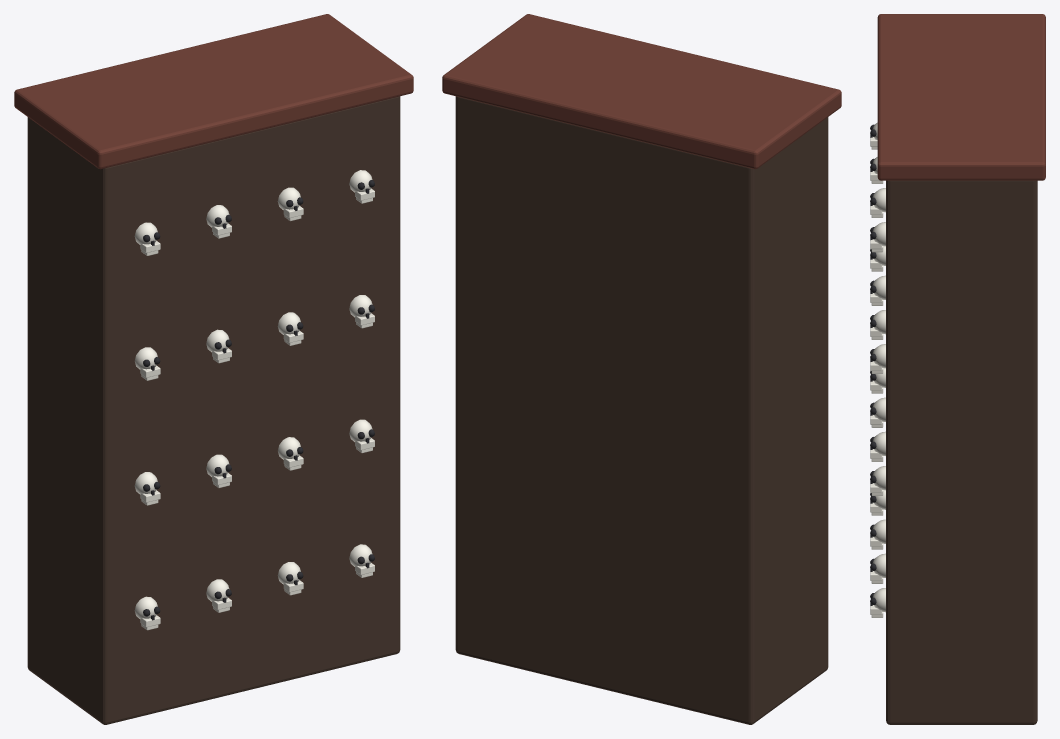
Rendered from cabinet_skull_cabinet.glb.
3 views of the same model, side by side, from view 1: azimuth 30°, elevation 25°; view 2: azimuth 150°, elevation 25°; view 3: azimuth 270°, elevation 25° (orthographic). The views are drawn at different scales.
Visible parts, largest first — view 1: GD_cabinet_skull_cabinet__m0, GD_cabinet_skull_cabinet__m1, GD_cabinet_skull_cabinet__m2, GD_cabinet_skull_cabinet__m3; view 2: GD_cabinet_skull_cabinet__m0, GD_cabinet_skull_cabinet__m1; view 3: GD_cabinet_skull_cabinet__m0, GD_cabinet_skull_cabinet__m1, GD_cabinet_skull_cabinet__m2, GD_cabinet_skull_cabinet__m3.
Boxes of the visible parts, x1,y1,x2,y2 form: GD_cabinet_skull_cabinet__m0: (27, 96, 400, 724); GD_cabinet_skull_cabinet__m1: (14, 14, 413, 169); GD_cabinet_skull_cabinet__m2: (134, 170, 374, 630); GD_cabinet_skull_cabinet__m3: (143, 180, 374, 620); GD_cabinet_skull_cabinet__m0: (455, 96, 828, 724); GD_cabinet_skull_cabinet__m1: (442, 14, 841, 169); GD_cabinet_skull_cabinet__m0: (886, 180, 1037, 724); GD_cabinet_skull_cabinet__m1: (877, 14, 1045, 180); GD_cabinet_skull_cabinet__m2: (870, 122, 885, 617); GD_cabinet_skull_cabinet__m3: (870, 124, 876, 605).
Size of the model in its own units: 1.06 by 1.86 by 0.5227.
